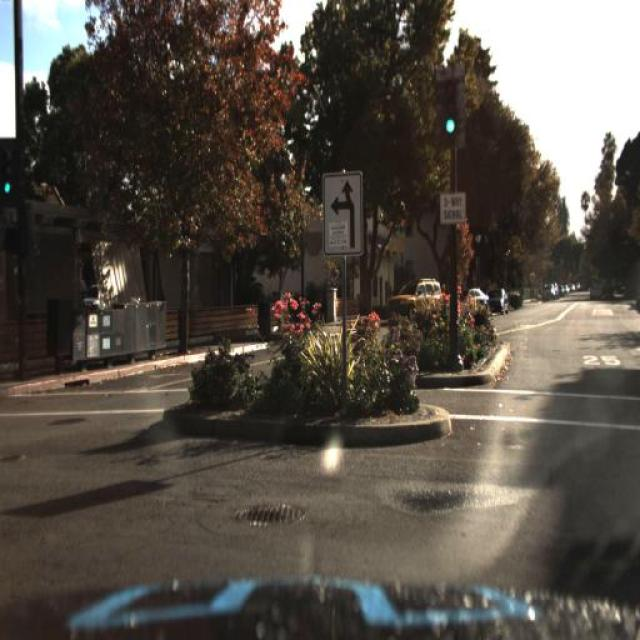car: (388, 278, 444, 322)
trafficLight-GreenLeft: (0, 137, 16, 205)
